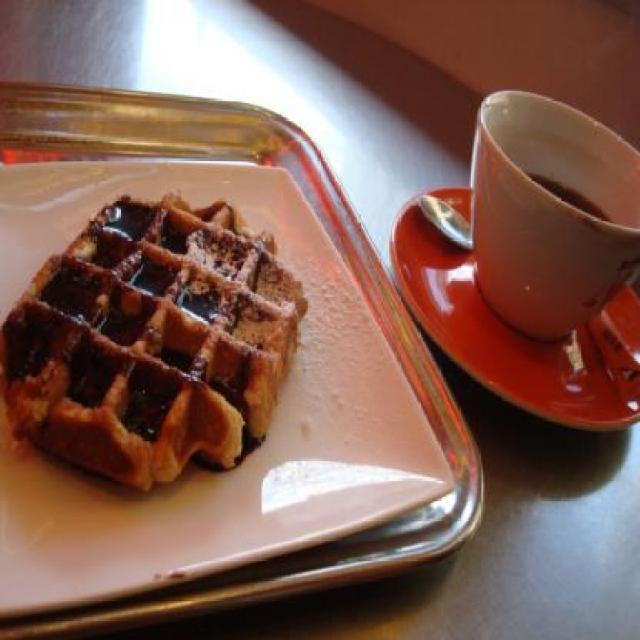Waffle: (0, 188, 308, 490)
